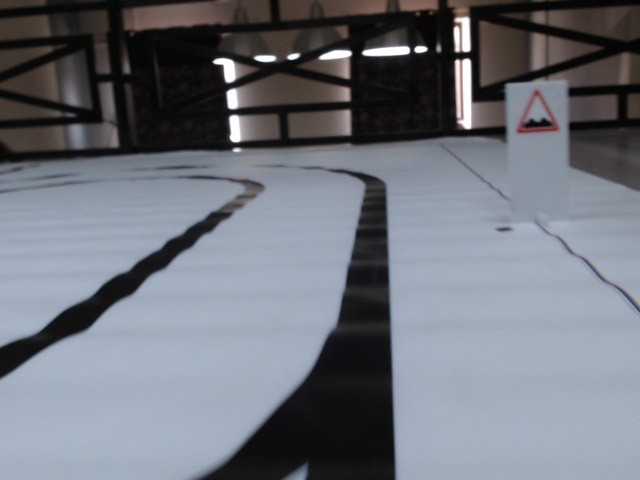Nerov: (515, 89, 562, 136)
